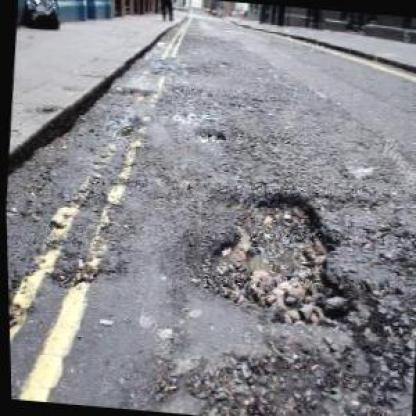pothole: (180, 178, 368, 332), (194, 126, 225, 143)
